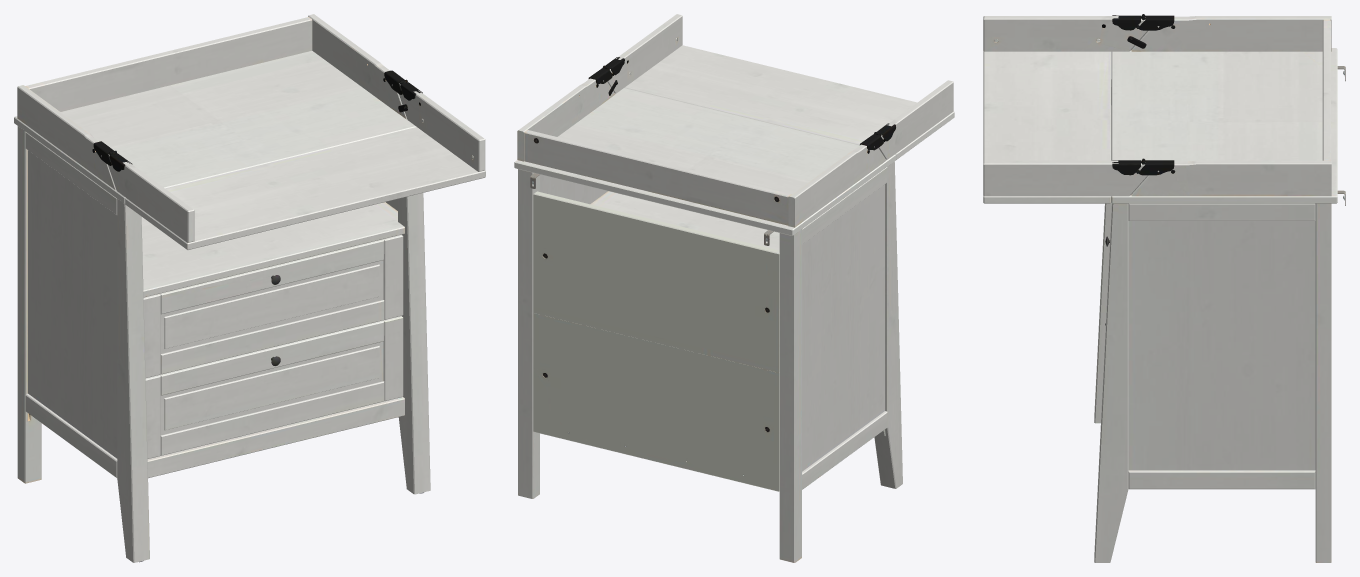
File: sundvik_komoda_z_przewijakiem_30591299.glb
The picture shows the model from 3 angles, left to right: view 1: azimuth 30°, elevation 25°; view 2: azimuth 150°, elevation 25°; view 3: azimuth 270°, elevation 25°; orthographic projection. The views are drawn at different scales.
Parts seen in each view (by area): view 1: sundvik_komoda_z_przewijakiem_30591299; view 2: sundvik_komoda_z_przewijakiem_30591299; view 3: sundvik_komoda_z_przewijakiem_30591299.
Part boxes in pixels (left/top/right/bottom): sundvik_komoda_z_przewijakiem_30591299: left=14, top=14, right=485, bottom=562; sundvik_komoda_z_przewijakiem_30591299: left=514, top=14, right=954, bottom=562; sundvik_komoda_z_przewijakiem_30591299: left=983, top=14, right=1345, bottom=562.
Bounding box in the file's own units: 0.7904 × 0.9871 × 0.806.
1 material, 1 textured.
